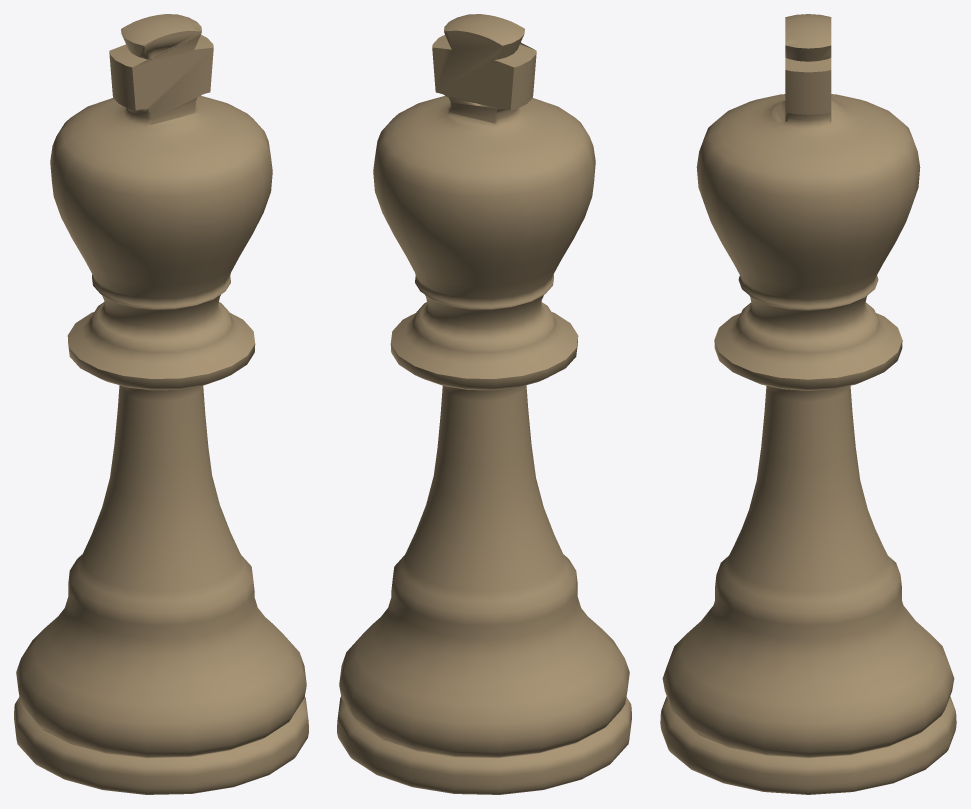
3 renders of one model, left to right at view 1: azimuth 30°, elevation 25°; view 2: azimuth 150°, elevation 25°; view 3: azimuth 270°, elevation 25°, orthographic.
Visible parts, largest first — view 1: RE2; view 2: RE2; view 3: RE2.
Boxes of the visible parts, x1,y1,x2,y2 form: RE2: [14, 14, 308, 794]; RE2: [337, 14, 631, 794]; RE2: [660, 14, 956, 794].
Size of the model in its own units: 186 by 494 by 186.
